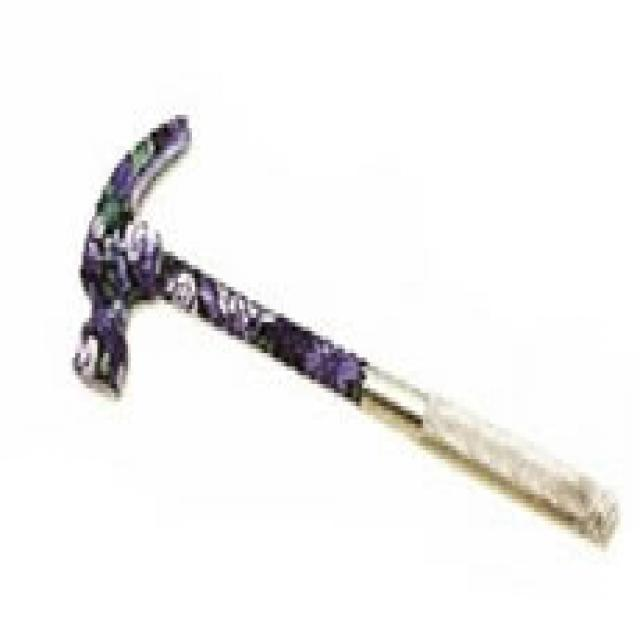hammer: (61, 101, 624, 564)
